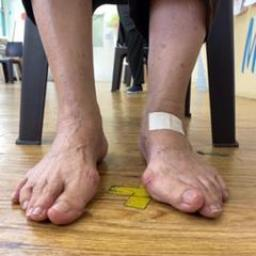Front View -Both Feet-: (3, 66, 250, 244)
